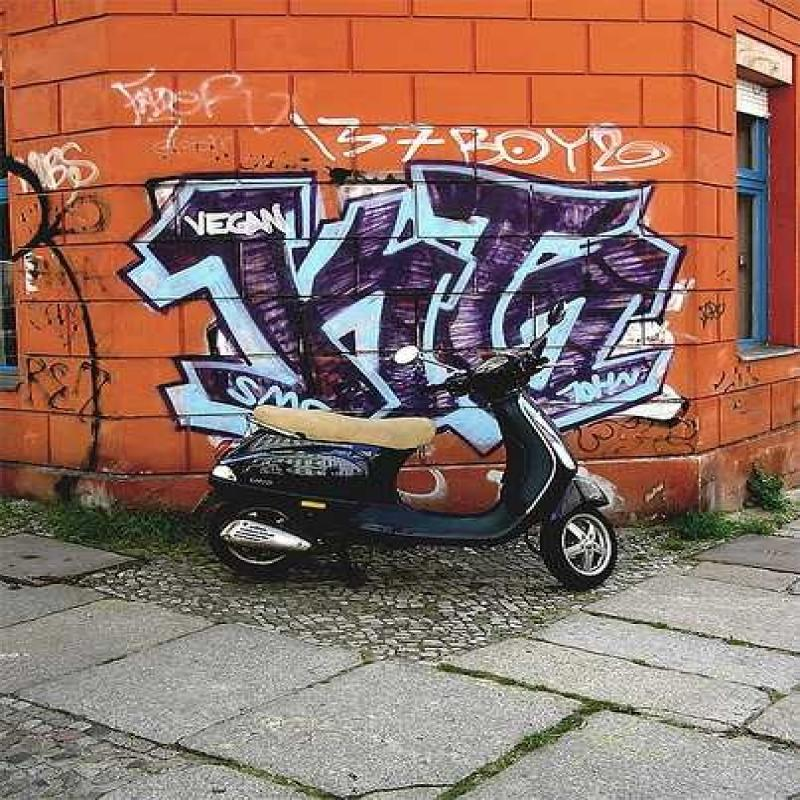bike: (221, 334, 627, 574)
